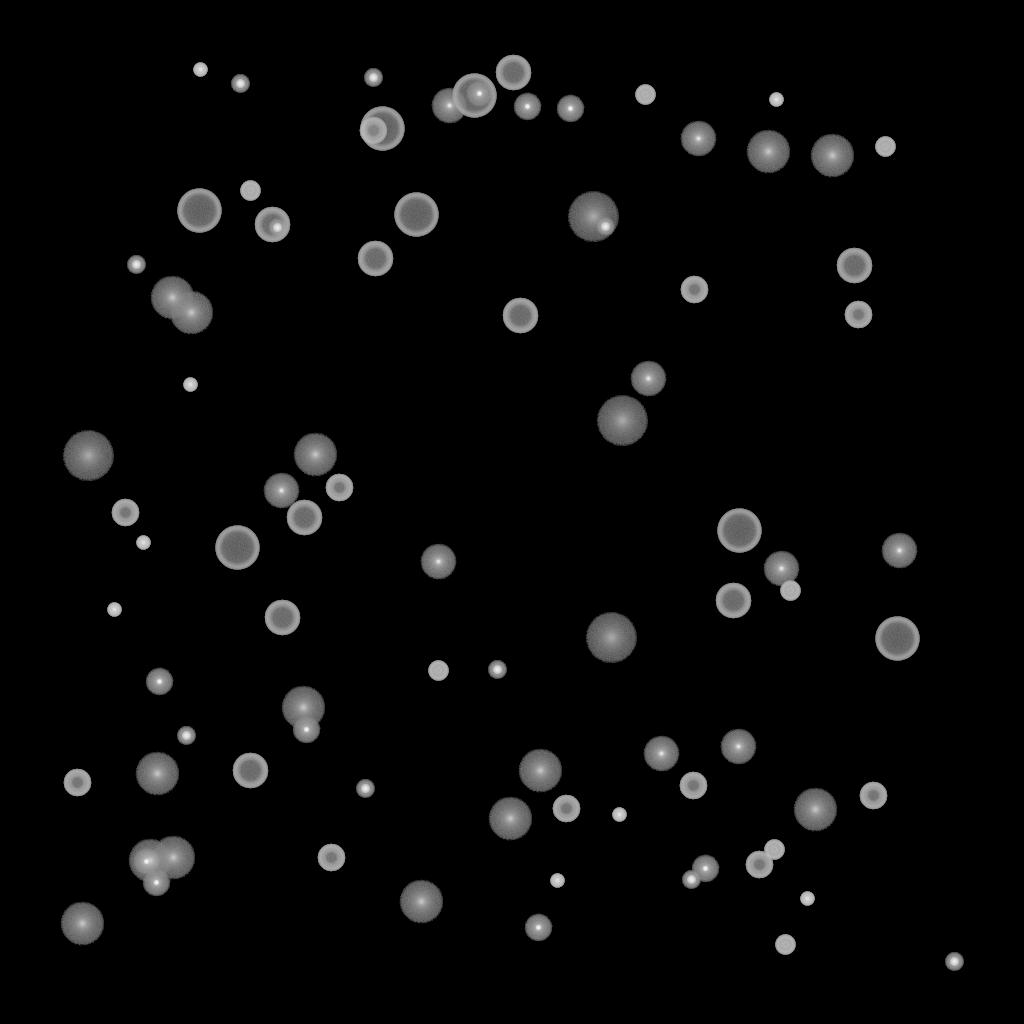depth:-10: (524, 914, 552, 942), (513, 93, 541, 121), (142, 869, 170, 897), (292, 716, 320, 744), (556, 95, 584, 123), (691, 855, 719, 883), (145, 668, 173, 696), (465, 80, 493, 108), (132, 848, 160, 876)
depth:-20: (127, 256, 145, 274), (268, 219, 286, 237), (596, 218, 614, 236), (488, 661, 506, 679), (356, 780, 374, 798), (177, 727, 195, 745), (364, 69, 382, 87), (945, 953, 963, 971), (231, 75, 249, 93), (682, 871, 700, 889)
depth:-30: (800, 892, 814, 906), (183, 378, 197, 392), (107, 603, 121, 617), (193, 63, 207, 77), (612, 808, 626, 822), (769, 93, 783, 107), (550, 874, 564, 888), (136, 536, 150, 550)
depth:-40: (775, 935, 795, 955), (764, 840, 784, 860), (635, 85, 655, 105), (780, 581, 800, 601), (428, 661, 448, 681), (240, 181, 260, 201), (875, 137, 895, 157)
depth:-50: (359, 117, 387, 145), (111, 499, 139, 527), (680, 276, 708, 304), (317, 844, 345, 872), (745, 851, 773, 879), (325, 474, 353, 502), (844, 301, 872, 329), (679, 772, 707, 800), (552, 795, 580, 823), (859, 782, 887, 810), (63, 769, 91, 797)
depth:-60: (232, 753, 268, 789), (254, 207, 290, 243), (502, 298, 538, 334), (836, 248, 872, 284), (357, 241, 393, 277), (715, 583, 751, 619), (495, 55, 531, 91), (264, 600, 300, 636), (286, 500, 322, 536)
depth:-70: (875, 617, 919, 661), (452, 74, 496, 118), (394, 193, 438, 237), (215, 526, 259, 570), (177, 189, 221, 233), (360, 107, 404, 151), (717, 509, 761, 553)
depth:0: (431, 88, 467, 124), (630, 361, 666, 397), (881, 533, 917, 569), (420, 544, 456, 580), (720, 729, 756, 765), (643, 736, 679, 772), (263, 473, 299, 509), (763, 551, 799, 587), (680, 121, 716, 157)
depth:10: (746, 130, 790, 174), (60, 902, 104, 946), (151, 836, 195, 880), (488, 797, 532, 841), (128, 839, 172, 883), (169, 291, 213, 335), (135, 752, 179, 796), (150, 276, 194, 320), (399, 880, 443, 924), (293, 433, 337, 477), (281, 686, 325, 730), (518, 749, 562, 793), (810, 134, 854, 178), (793, 788, 837, 832)
depth:20: (567, 192, 619, 242), (596, 396, 648, 446), (62, 431, 114, 481), (585, 613, 637, 663)
